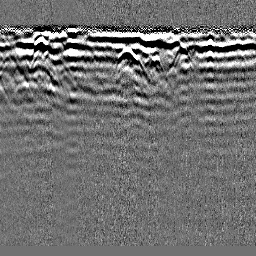cavity: (111, 46, 139, 69)
